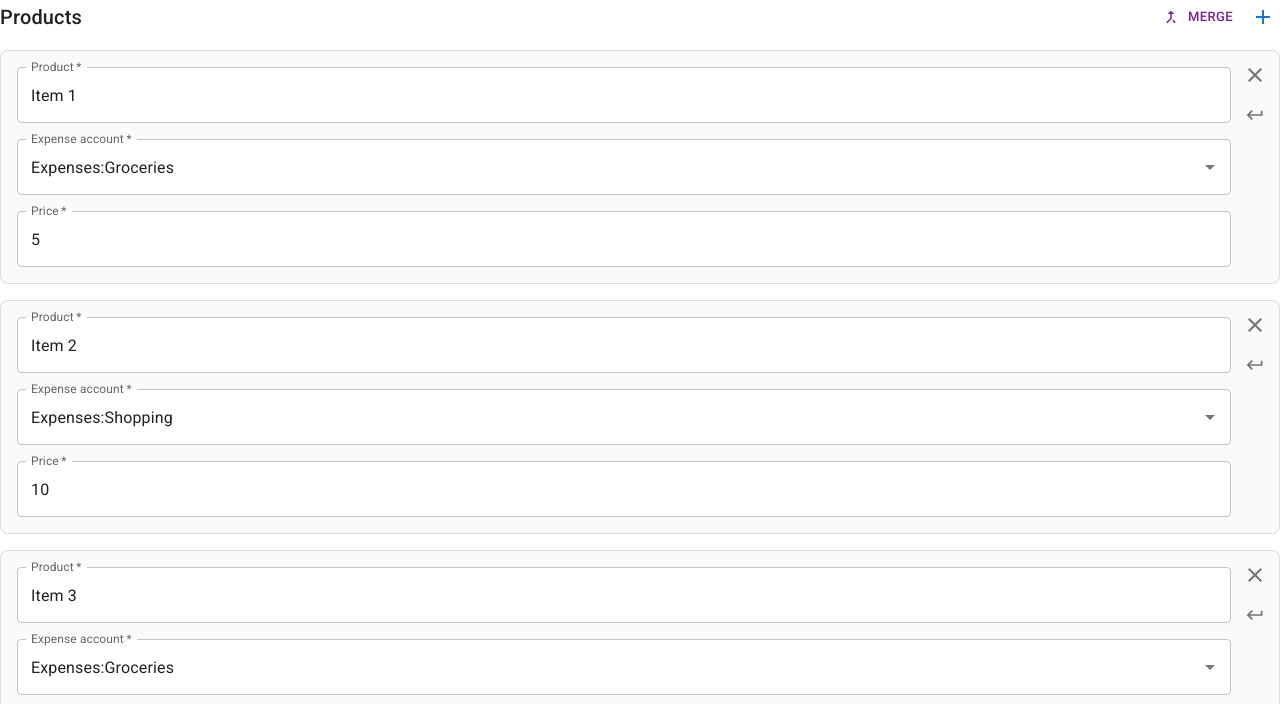
Test case: ReceiptItemList - Price Assignment Feature › Price Assignment Modal › should open modal when assign button is clicked
What coordinates should you click on to do the following:
click the 1st button titled "Assign price difference to this item"
I would click on:
 (1255, 115)
Its box is [1235,95,1275,135].
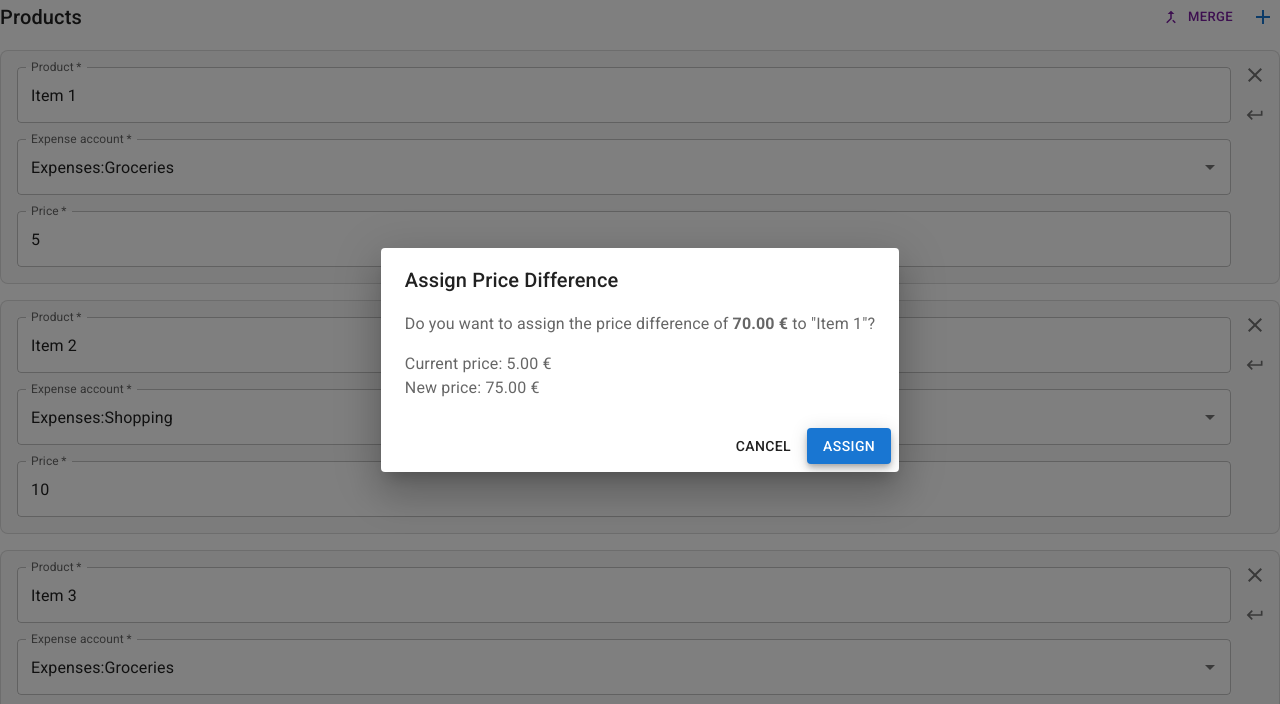
Result: the heading "Assign Price Difference" is shown at [405,268,618,292]
